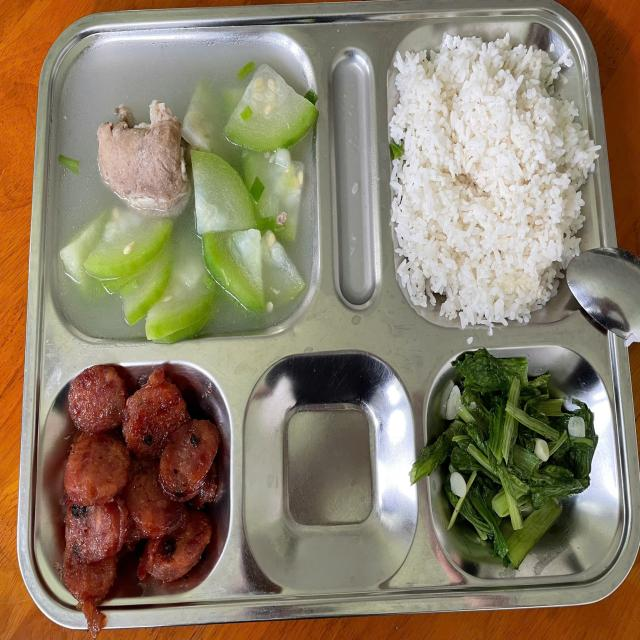canhbau: (59, 48, 318, 335)
lapxuong: (38, 362, 230, 611)
rice: (437, 365, 608, 570)
salad: (393, 39, 587, 313)
